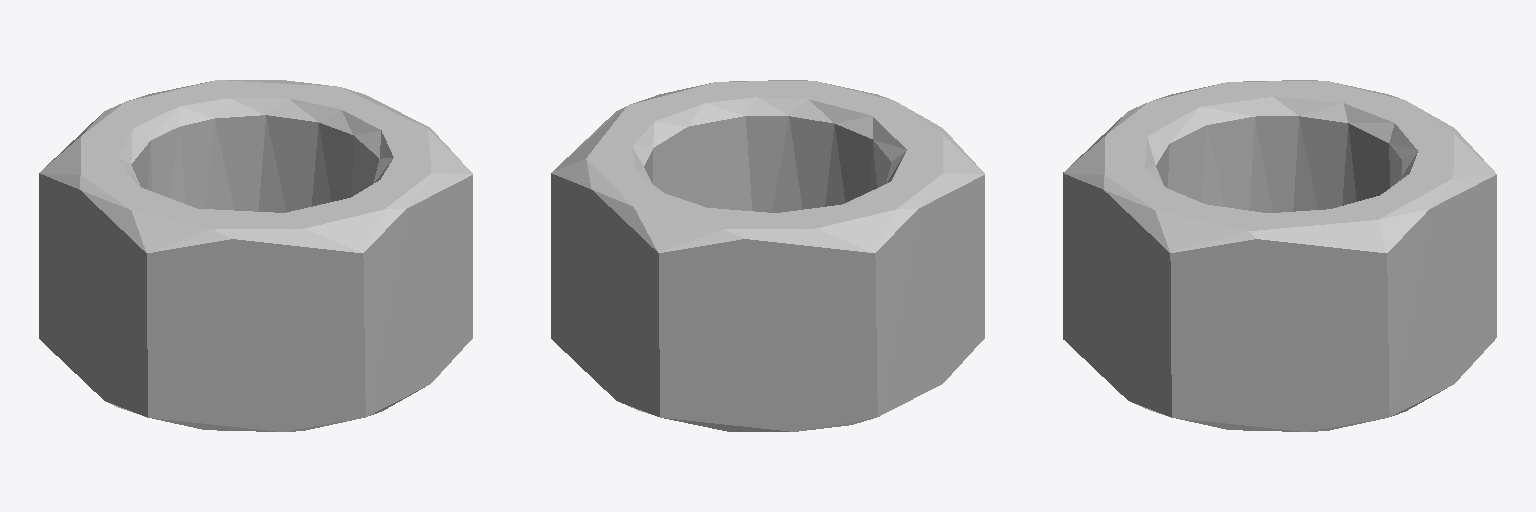
File: m16 nuts.obj
3 views of the same model, side by side, from view 1: azimuth 30°, elevation 25°; view 2: azimuth 150°, elevation 25°; view 3: azimuth 270°, elevation 25° (orthographic).
Parts seen in each view (by area): view 1: imagetostl_mesh0; view 2: imagetostl_mesh0; view 3: imagetostl_mesh0.
Part boxes in pixels (bbox=[...]): imagetostl_mesh0: bbox=[39, 80, 472, 431]; imagetostl_mesh0: bbox=[551, 80, 984, 431]; imagetostl_mesh0: bbox=[1063, 80, 1496, 431].
Bounding box in the file's own units: 22.03 × 13 × 25.36.